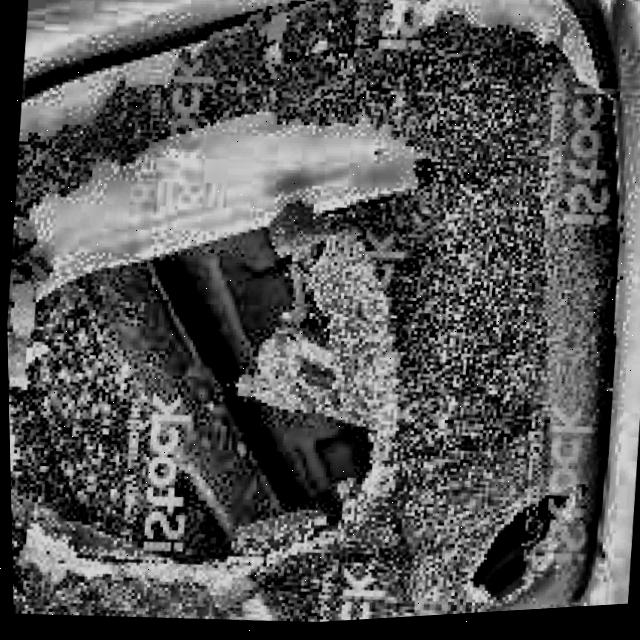glass_shatter: (4, 168, 415, 604), (460, 482, 580, 611)
